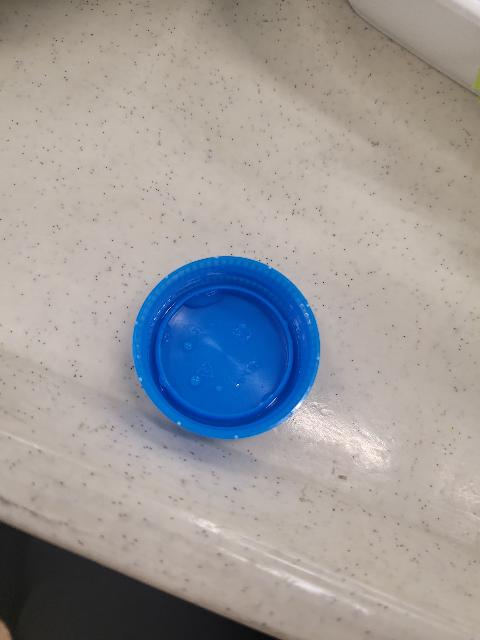Plastik: (126, 246, 323, 454)
